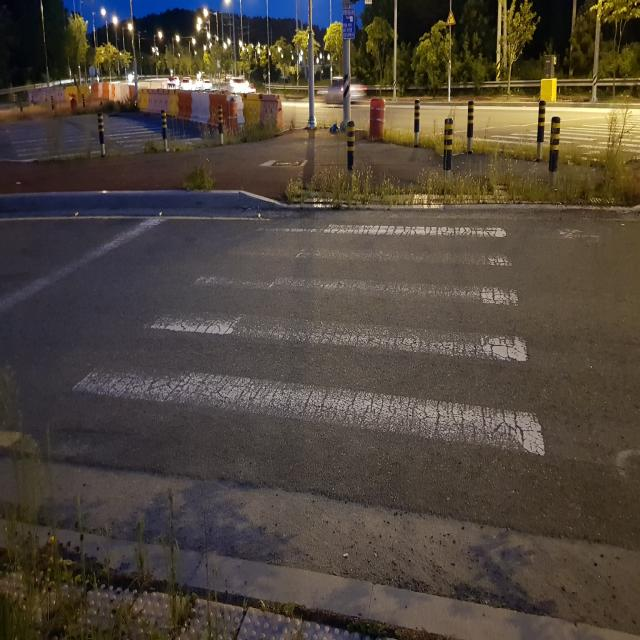횡단보도: (70, 220, 548, 460)
